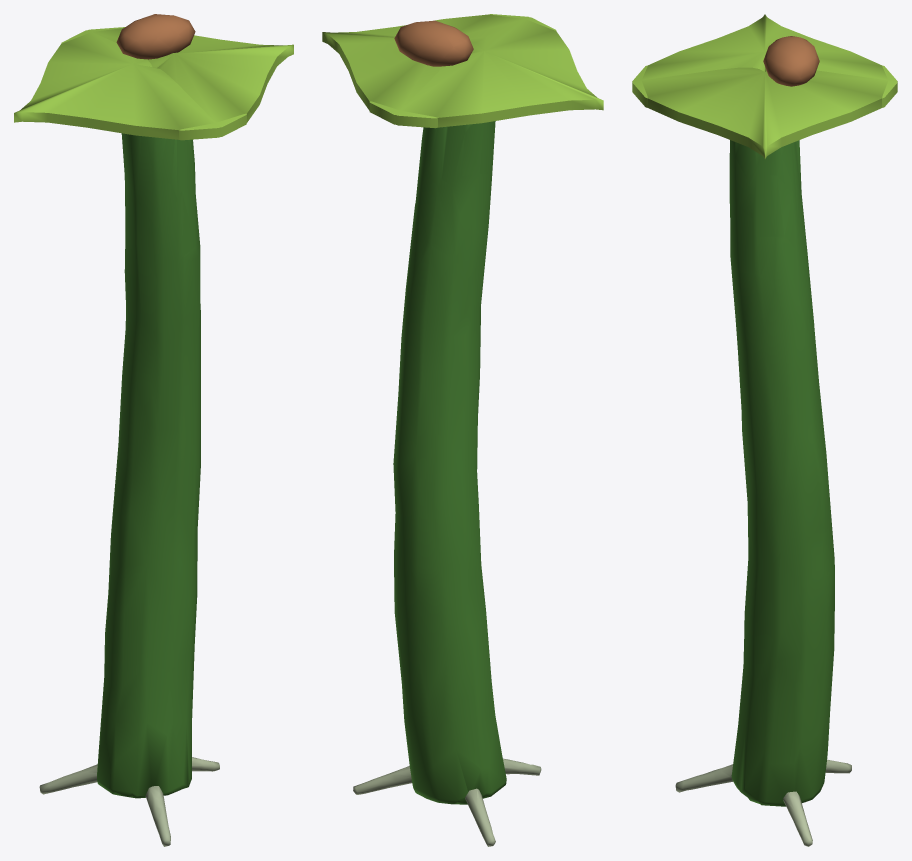
Rendered from canopy_sprout_lod1.glb.
3 views of the same model, side by side, from view 1: azimuth 30°, elevation 25°; view 2: azimuth 150°, elevation 25°; view 3: azimuth 270°, elevation 25° (orthographic).
Parts seen in each view (by area): view 1: canopy_sprout.001; view 2: canopy_sprout.001; view 3: canopy_sprout.001.
Part boxes in pixels (x1=…): canopy_sprout.001: x1=14, y1=14, x2=293, y2=846; canopy_sprout.001: x1=322, y1=14, x2=603, y2=846; canopy_sprout.001: x1=632, y1=14, x2=897, y2=846.
Bounding box in the file's own units: 3.63 × 9.64 × 3.
